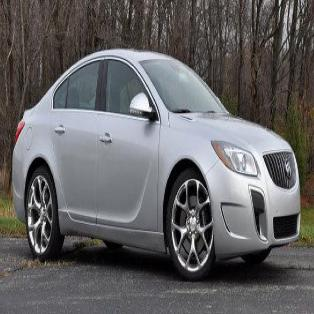Auto: (10, 47, 302, 285)
